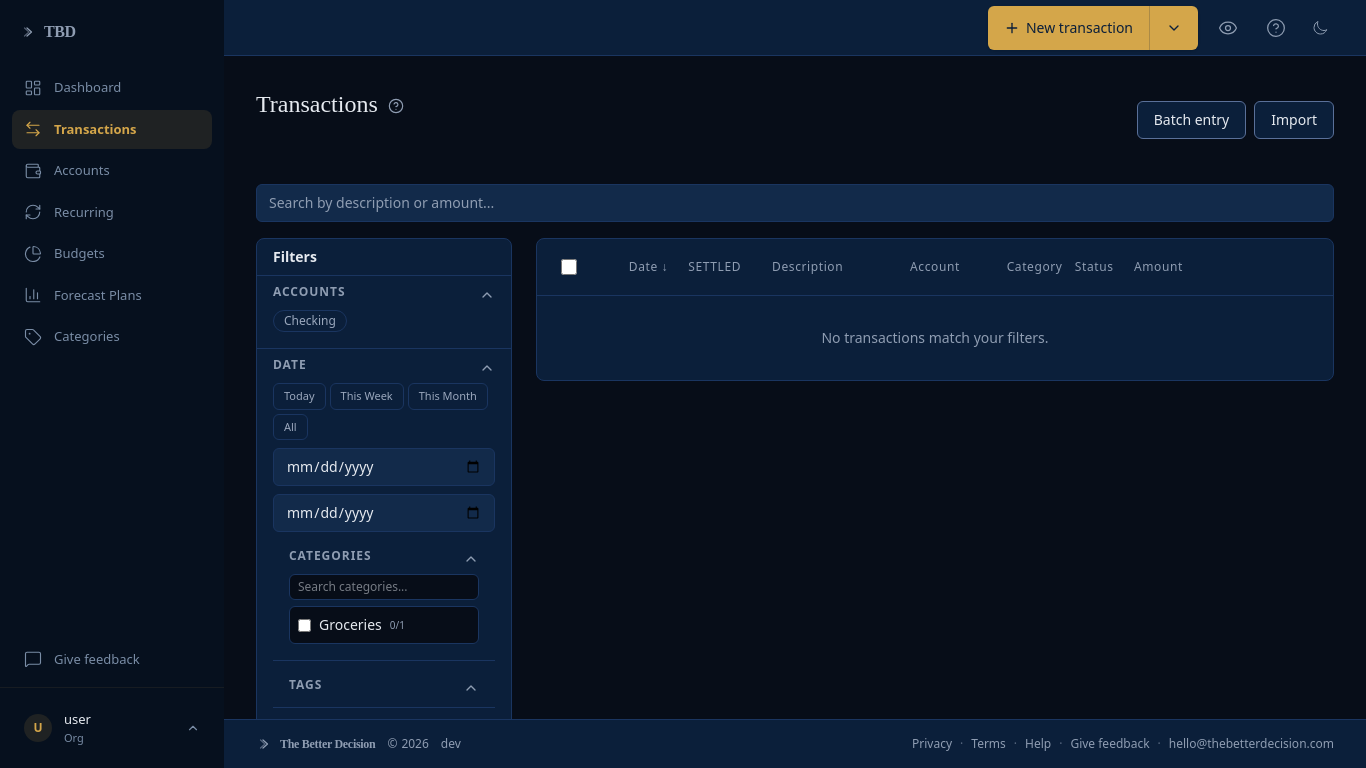
Scenario: TransactionsPage — sort direction across columns (Option B) › Switching from Amount (desc) to Status applies Status's natural default (asc)
This screenshot has width=1366, height=768.
# Land on Amount via its natural default first.
Click the button "Amount".
click(1158, 267)  # box [1134, 251, 1182, 283]
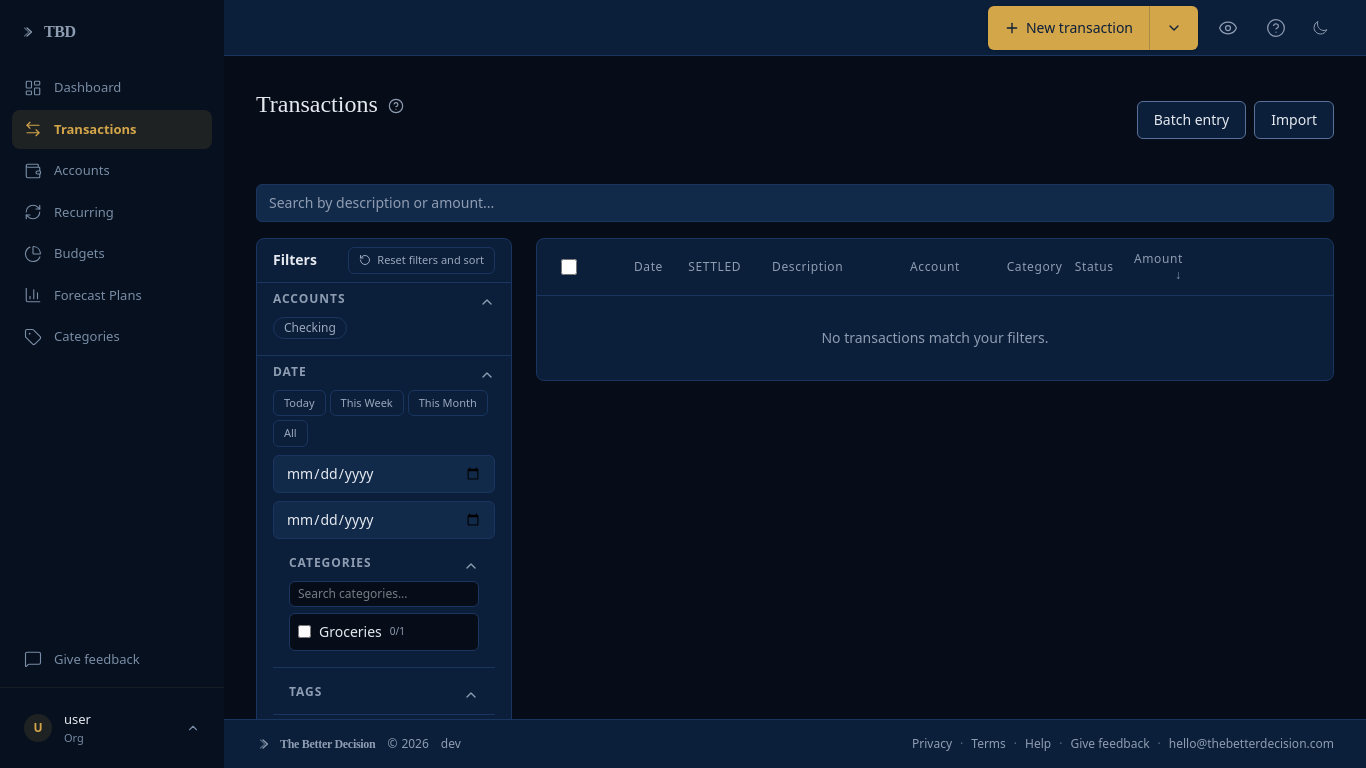
Expected: the button "Amount ↓" is shown, [1134, 251, 1182, 283]
Click the button "Status".
click(1094, 267)  # box [1070, 251, 1118, 283]
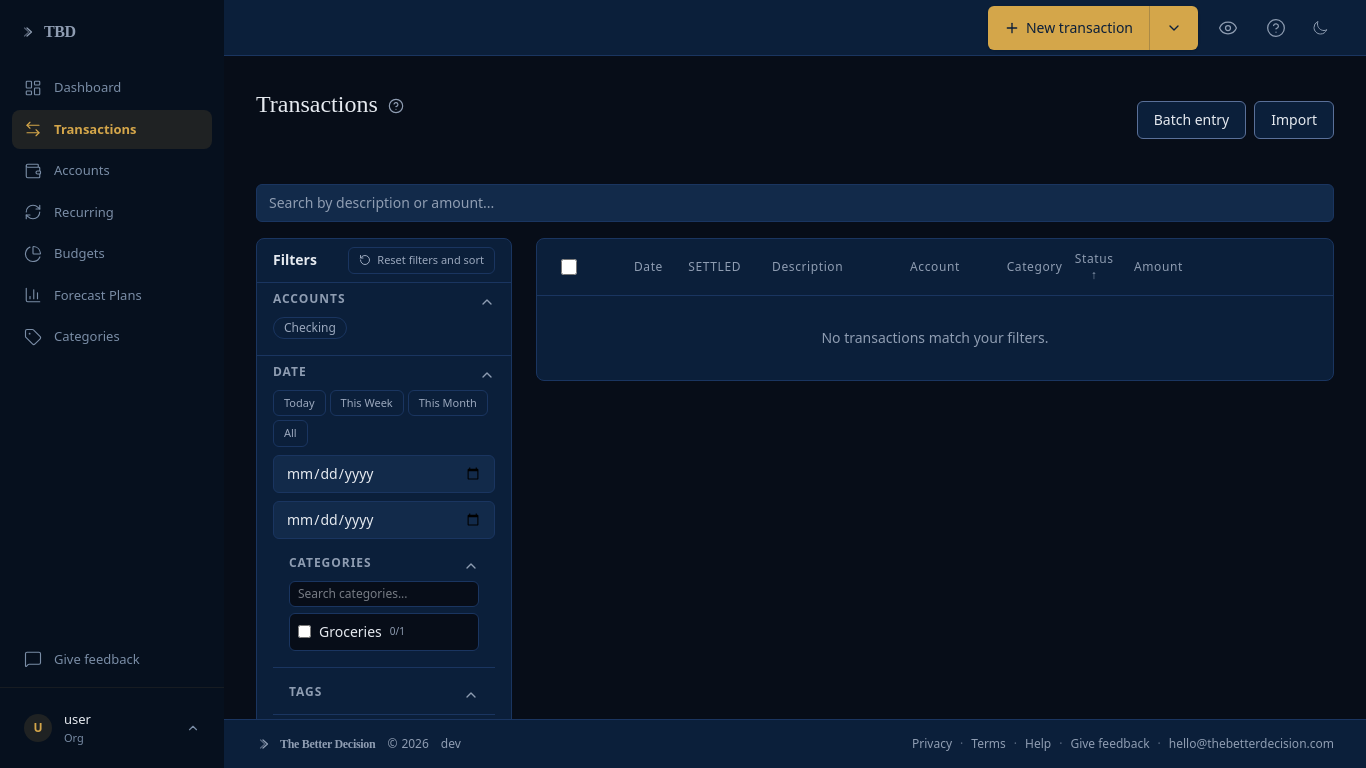
Expected: the button "Status ↑" is shown, [1070, 251, 1118, 283]
